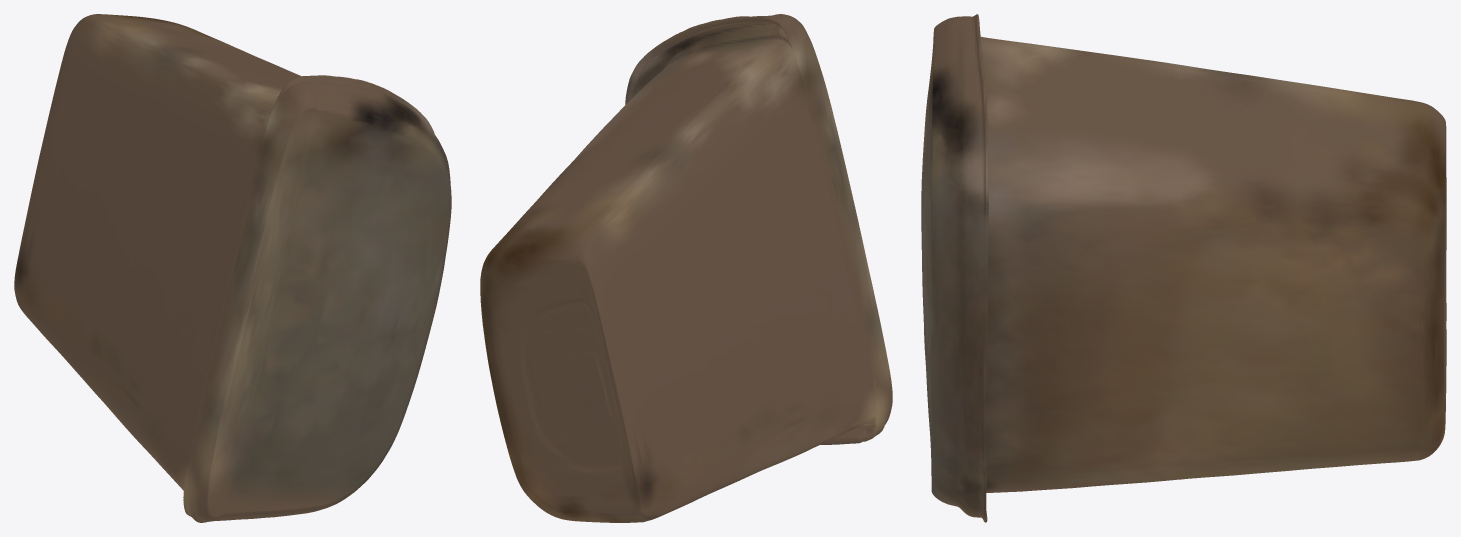
Rendered from component_005_bin.glb.
3 views of the same model, side by side, from view 1: azimuth 30°, elevation 25°; view 2: azimuth 150°, elevation 25°; view 3: azimuth 270°, elevation 25° (orthographic). The views are drawn at different scales.
Parts seen in each view (by area): view 1: 005_bin_000_instance_000_photo_-01; view 2: 005_bin_000_instance_000_photo_-01; view 3: 005_bin_000_instance_000_photo_-01.
Boxes of the visible parts, left/top/right/bottom form: 005_bin_000_instance_000_photo_-01: left=14, top=14, right=451, bottom=522; 005_bin_000_instance_000_photo_-01: left=480, top=14, right=892, bottom=522; 005_bin_000_instance_000_photo_-01: left=921, top=14, right=1446, bottom=522.
Bounding box in the file's own units: 0.1057 × 0.169 × 0.1635.
